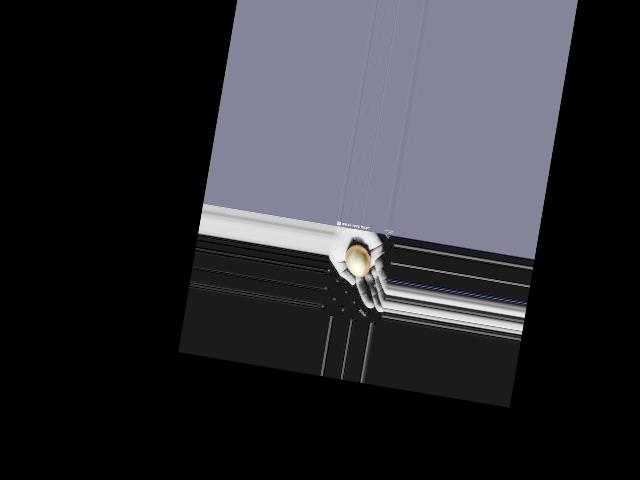egg: (343, 244, 373, 278)
